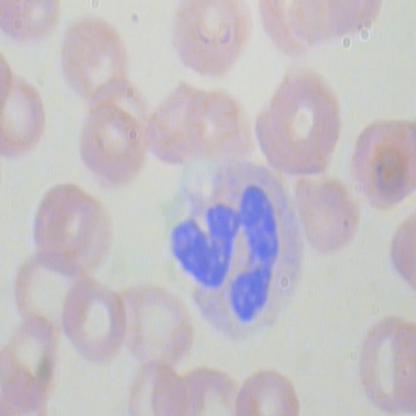RBC: (254, 72, 348, 170), (51, 15, 132, 111), (171, 1, 253, 89), (60, 274, 130, 368), (296, 172, 356, 256), (1, 70, 53, 165), (233, 368, 309, 416)
WBC: (161, 155, 309, 348)
